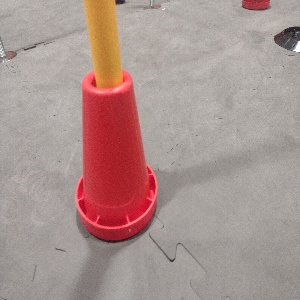Red_1: (73, 64, 158, 241)
